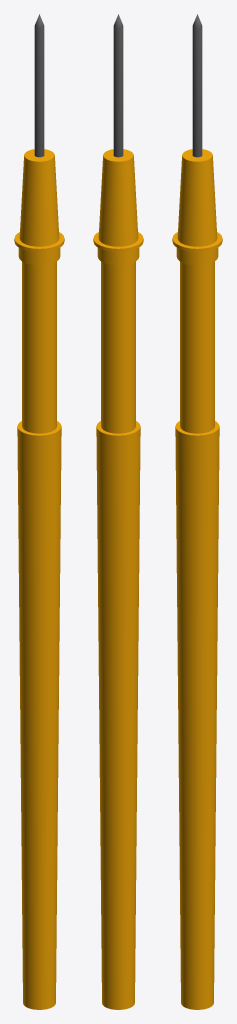
Rendered from Probe.FBX.
3 views of the same model, side by side, from view 1: azimuth 90°, elevation 25°; view 2: azimuth 210°, elevation 25°; view 3: azimuth 270°, elevation 25° (orthographic).
Visible parts, largest first — view 1: Probe; view 2: Probe; view 3: Probe.
Boxes of the visible parts, bbox=[...] form: Probe: bbox=[14, 14, 64, 1009]; Probe: bbox=[93, 14, 143, 1009]; Probe: bbox=[172, 14, 222, 1009].
Size of the model in its own units: 1.48 by 1.48 by 32.27.
